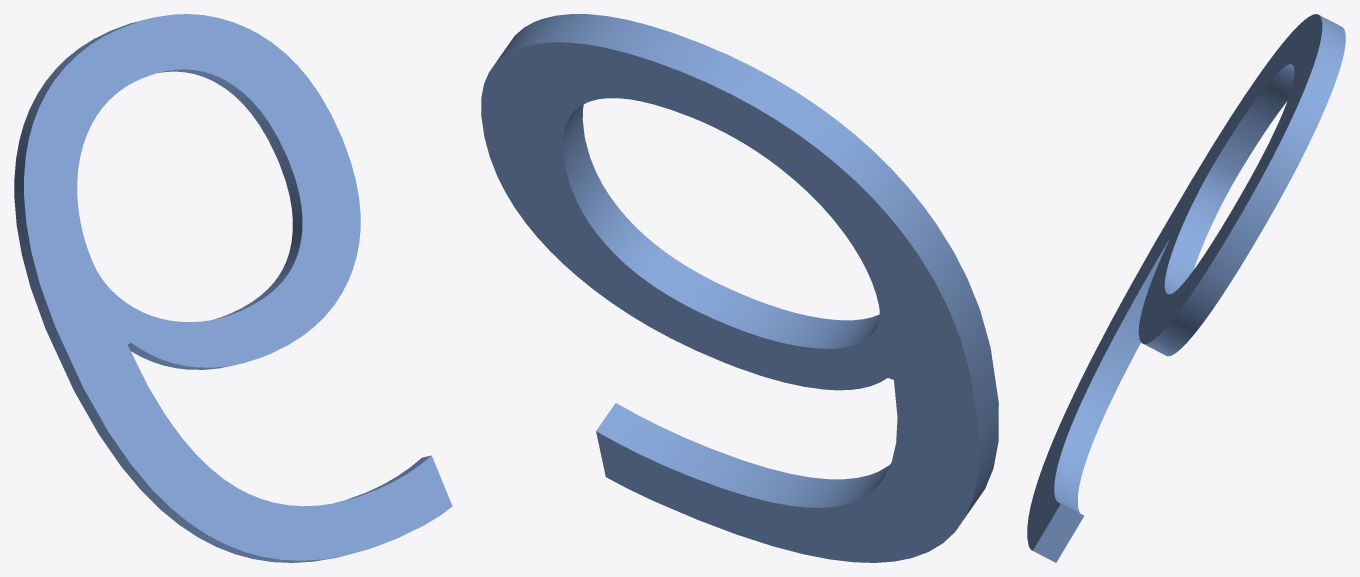
Rendered from New_Number_9.gltf.
The picture shows the model from 3 angles, left to right: view 1: azimuth 30°, elevation 25°; view 2: azimuth 150°, elevation 25°; view 3: azimuth 270°, elevation 25°; orthographic projection. The views are drawn at different scales.
Visible parts, largest first — view 1: Part 531; view 2: Part 531; view 3: Part 531.
Boxes of the visible parts, left/top/right/bottom form: Part 531: left=14, top=14, right=452, bottom=562; Part 531: left=481, top=14, right=998, bottom=562; Part 531: left=1027, top=14, right=1345, bottom=562.
Bounding box in the file's own units: 0.00369 × 0.00493 × 0.00304.
